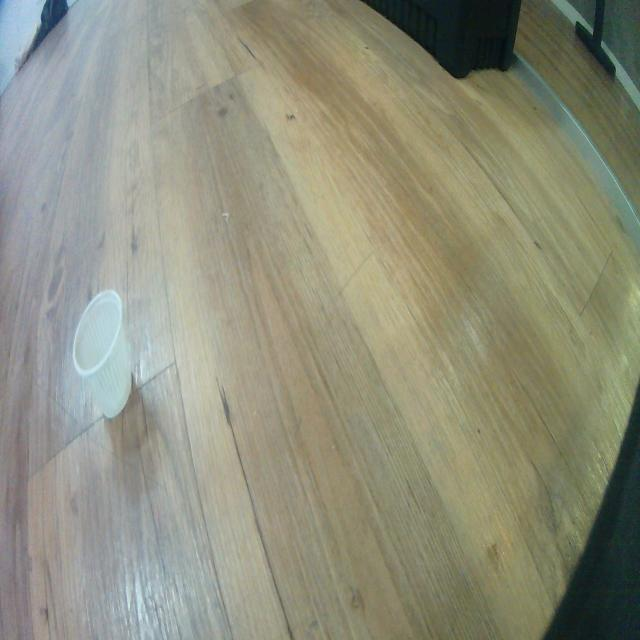planta: (72, 288, 131, 420)
